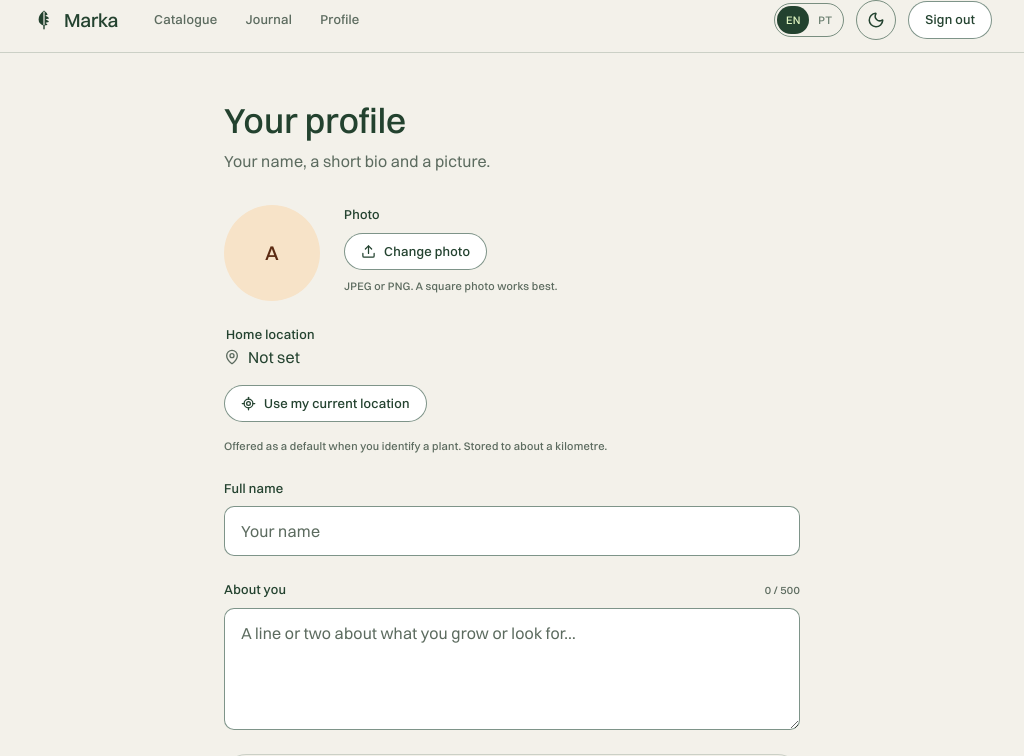
Test case: ProfilePage › sends a home location at full precision and shows the rounded answer
The image size is (1024, 756).
Step 1. Click the button "Use my current location" → (325, 404), box [224,385,427,422]
(page scrolled)
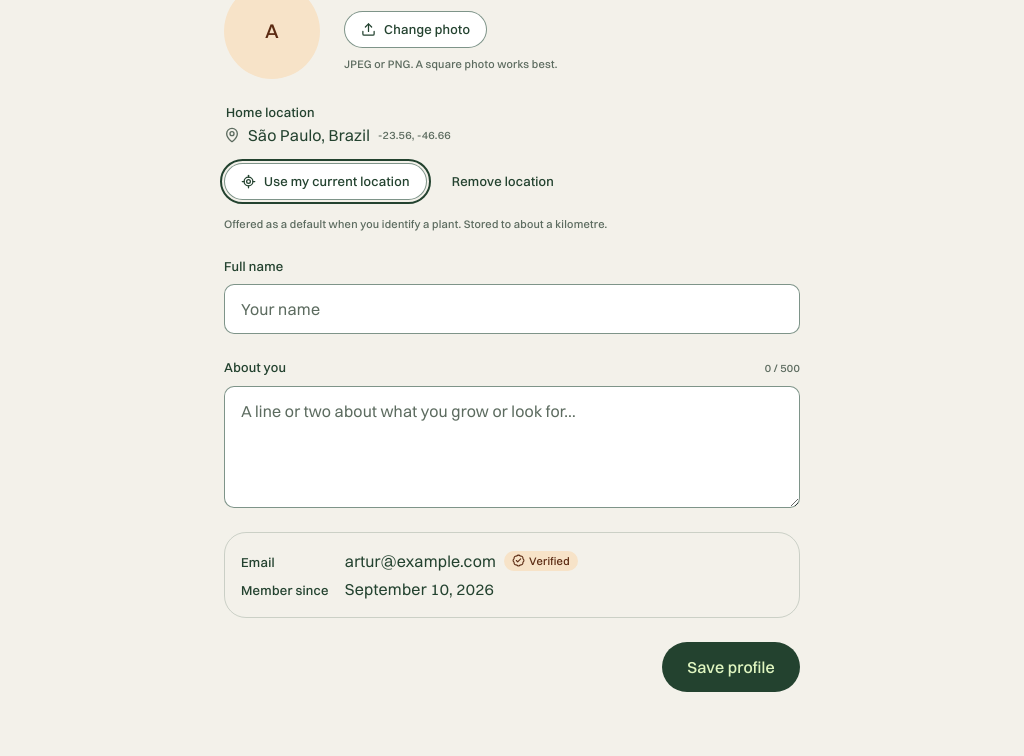
Check: the text "-23.56, -46.66" is shown, box [378,126,451,143]
Step 2. Click the button "Save profile" → (731, 667), box [662,642,800,692]
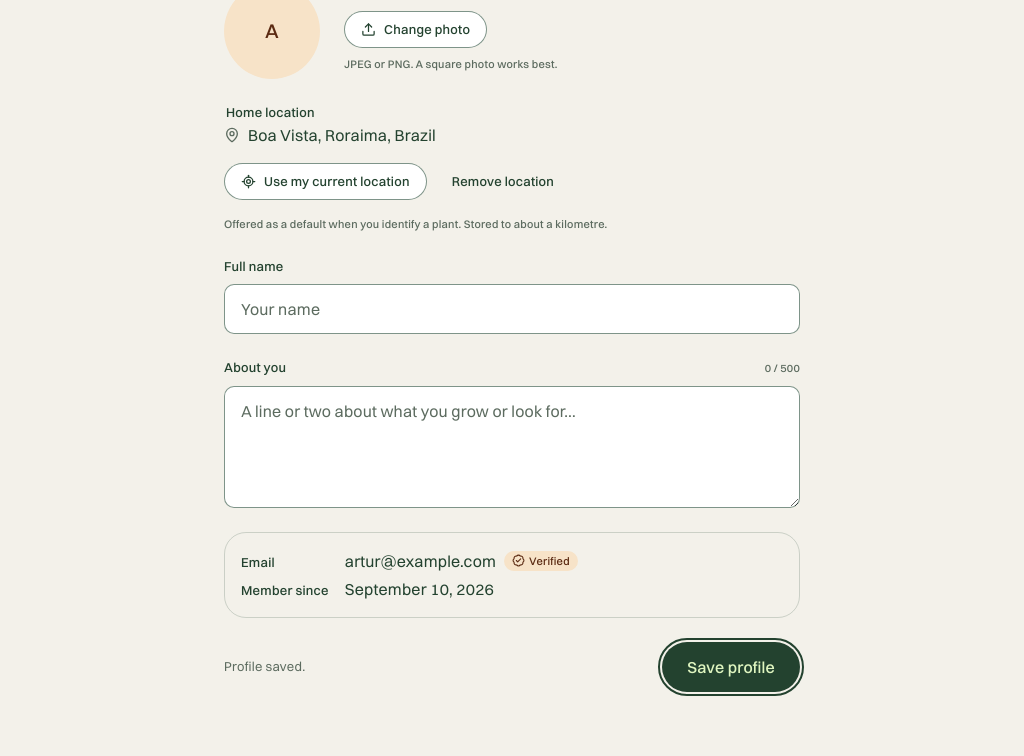
Check: the text "Boa Vista, Roraima, Brazil" is shown, box [248,123,436,147]
